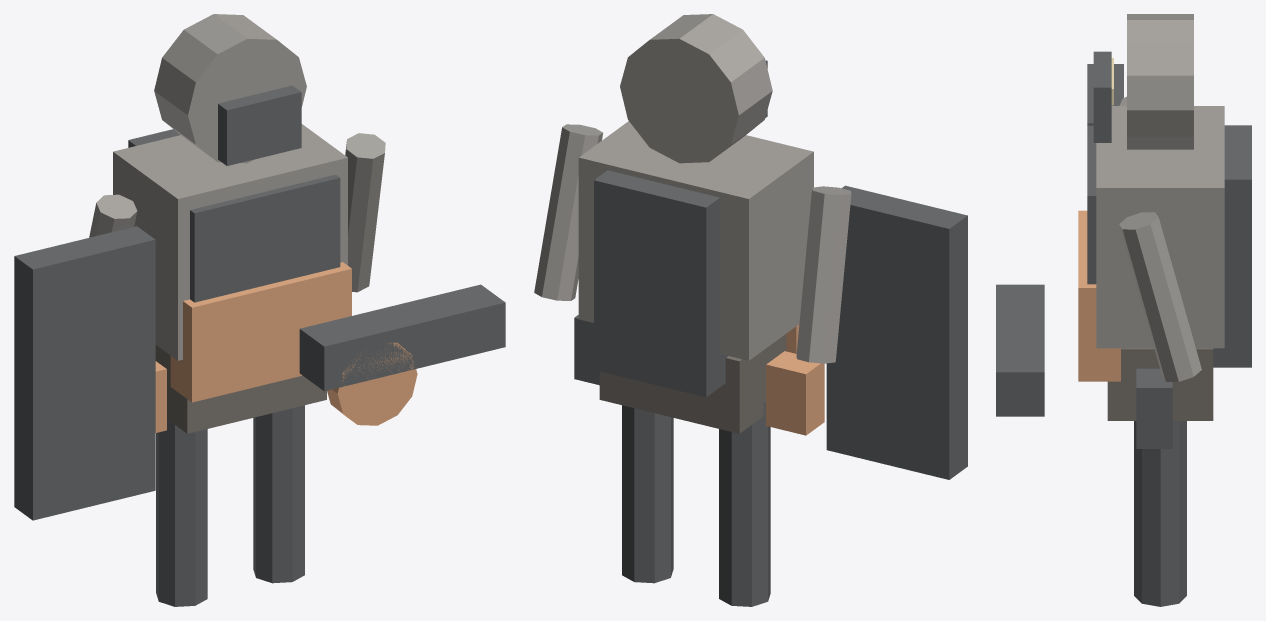
File: heavy-operator-v1.glb
The picture shows the model from 3 angles, left to right: view 1: azimuth 30°, elevation 25°; view 2: azimuth 150°, elevation 25°; view 3: azimuth 270°, elevation 25°; orthographic projection.
Visible parts, largest first — view 1: shield:breach-slab, torso:chest, torso:belly-armor, torso:vest, weapon:drum-lmg, head:helmet, leftLeg:boot, rightLeg:boot, head:sealed-faceplate, hips:pelvis, rightArm:upper, weapon:drum (+2 smaller); view 2: shield:breach-slab, backMount:pack, torso:chest, head:helmet, leftLeg:boot, rightLeg:boot, leftArm:upper, hips:pelvis, rightArm:upper, hipMount:left, hipMount:right; view 3: torso:chest, head:helmet, rightLeg:boot, backMount:pack, rightArm:upper, weapon:drum-lmg, hips:pelvis, torso:belly-armor, hipMount:right, head:sealed-faceplate, torso:vest, shield:breach-slab.
Boxes of the visible parts, x1=… form: shield:breach-slab: x1=14, y1=226, x2=155, y2=520; torso:chest: x1=113, y1=124, x2=347, y2=360; torso:belly-armor: x1=170, y1=262, x2=351, y2=402; torso:vest: x1=190, y1=174, x2=340, y2=302; weapon:drum-lmg: x1=299, y1=284, x2=505, y2=391; head:helmet: x1=154, y1=14, x2=306, y2=163; leftLeg:boot: x1=156, y1=419, x2=207, y2=606; rightLeg:boot: x1=253, y1=405, x2=304, y2=583; head:sealed-faceplate: x1=218, y1=85, x2=301, y2=165; hips:pelvis: x1=155, y1=345, x2=326, y2=433; rightArm:upper: x1=345, y1=133, x2=385, y2=292; weapon:drum: x1=327, y1=342, x2=417, y2=425; shield:breach-slab: x1=826, y1=185, x2=967, y2=479; backMount:pack: x1=594, y1=170, x2=727, y2=397; torso:chest: x1=578, y1=121, x2=813, y2=360; head:helmet: x1=620, y1=14, x2=772, y2=163; leftLeg:boot: x1=719, y1=401, x2=770, y2=606; rightLeg:boot: x1=622, y1=405, x2=673, y2=583; leftArm:upper: x1=796, y1=186, x2=851, y2=363; hips:pelvis: x1=599, y1=334, x2=786, y2=433; rightArm:upper: x1=534, y1=124, x2=602, y2=300; hipMount:left: x1=766, y1=351, x2=824, y2=435; hipMount:right: x1=574, y1=315, x2=599, y2=385; torso:chest: x1=1096, y1=106, x2=1224, y2=348; head:helmet: x1=1127, y1=14, x2=1193, y2=149; rightLeg:boot: x1=1134, y1=421, x2=1186, y2=606; backMount:pack: x1=1213, y1=125, x2=1251, y2=367; rightArm:upper: x1=1119, y1=212, x2=1201, y2=381; weapon:drum-lmg: x1=996, y1=284, x2=1044, y2=416; hips:pelvis: x1=1107, y1=348, x2=1213, y2=420; torso:belly-armor: x1=1078, y1=210, x2=1120, y2=381; hipMount:right: x1=1136, y1=368, x2=1172, y2=448; head:sealed-faceplate: x1=1093, y1=51, x2=1111, y2=142; torso:vest: x1=1087, y1=125, x2=1096, y2=284; shield:breach-slab: x1=1087, y1=64, x2=1123, y2=125.
Bounding box in the file's own units: 1.6 × 2 × 0.84.
